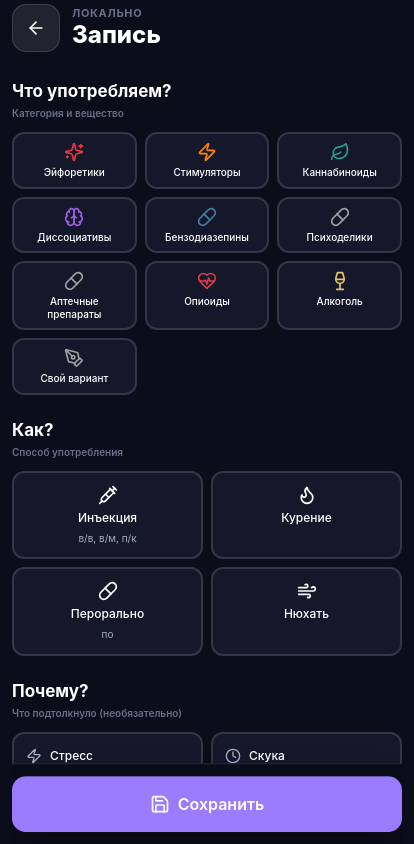
Scenario: AdvancedRecordForm › blocks save and shows a validation notice when required fields are missing
Click the button with aria-label "Сохранить запись" at {"x": 207, "y": 804}, box [12,776,402,832]
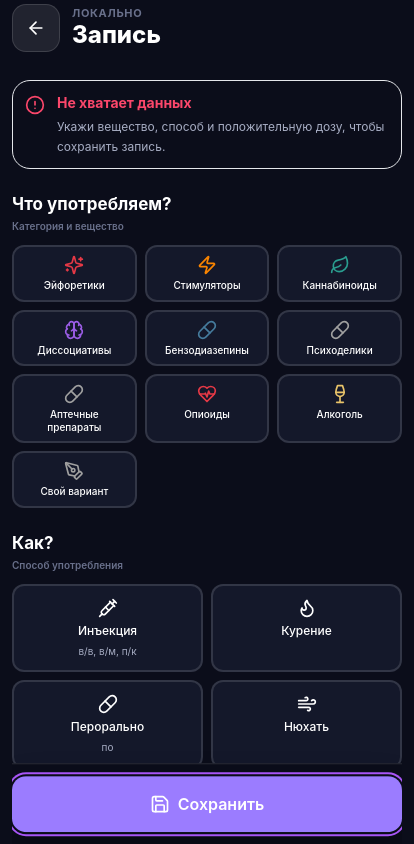
Result: the text "Не хватает данных" is shown at [57,94,192,111]
